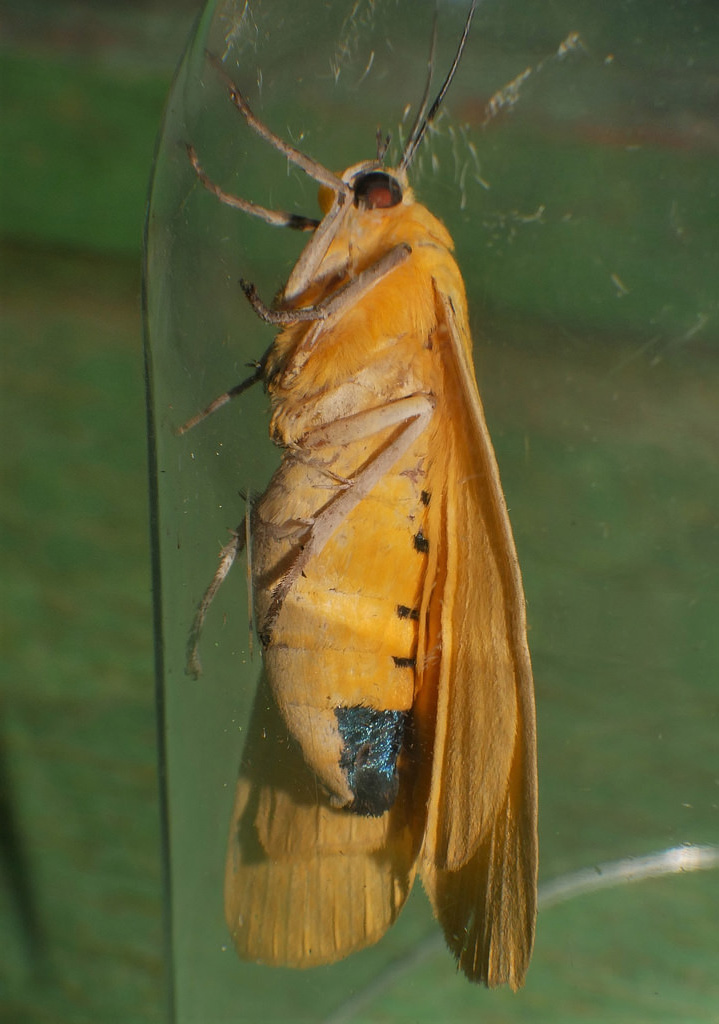Agape chloropyga: (173, 2, 546, 996)
moth: (171, 1, 544, 994)
